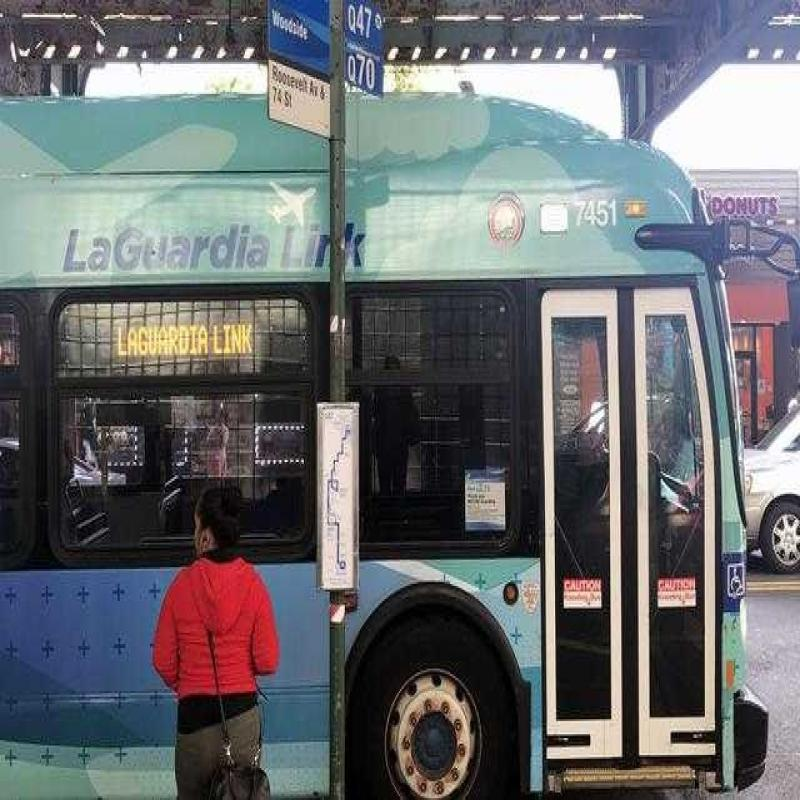bus: (1, 79, 777, 800)
